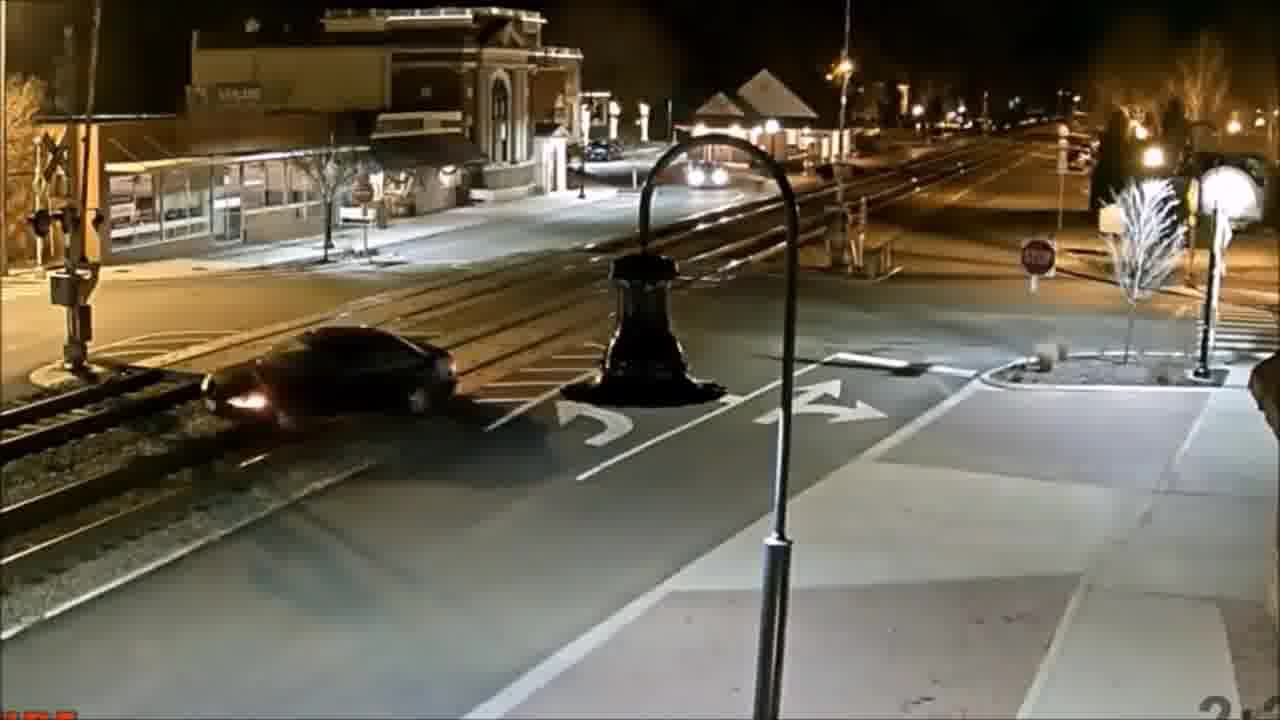crossing railway track: (192, 323, 459, 444)
